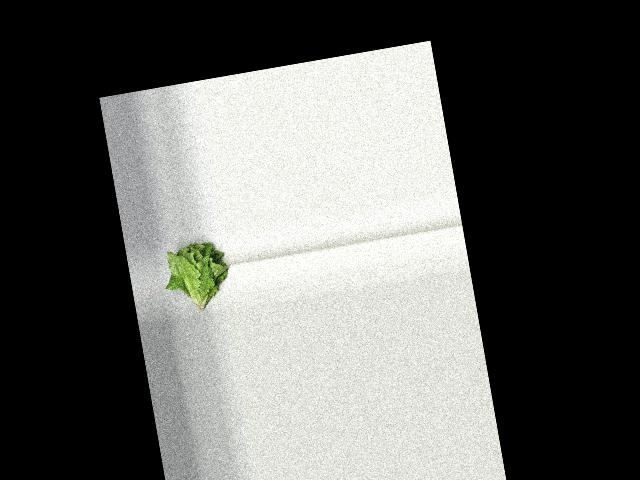lettuce: (160, 234, 239, 319)
